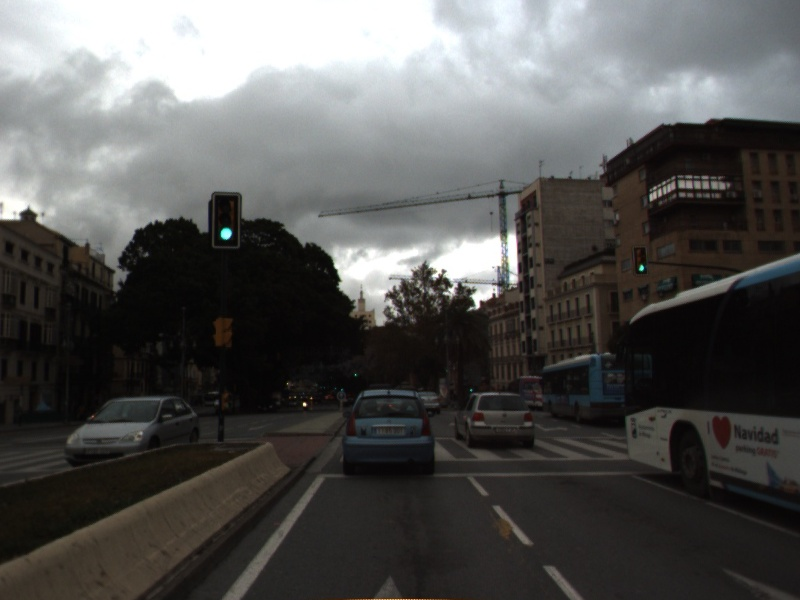STRAIGHT_RIGHT: (532, 420, 570, 434)
